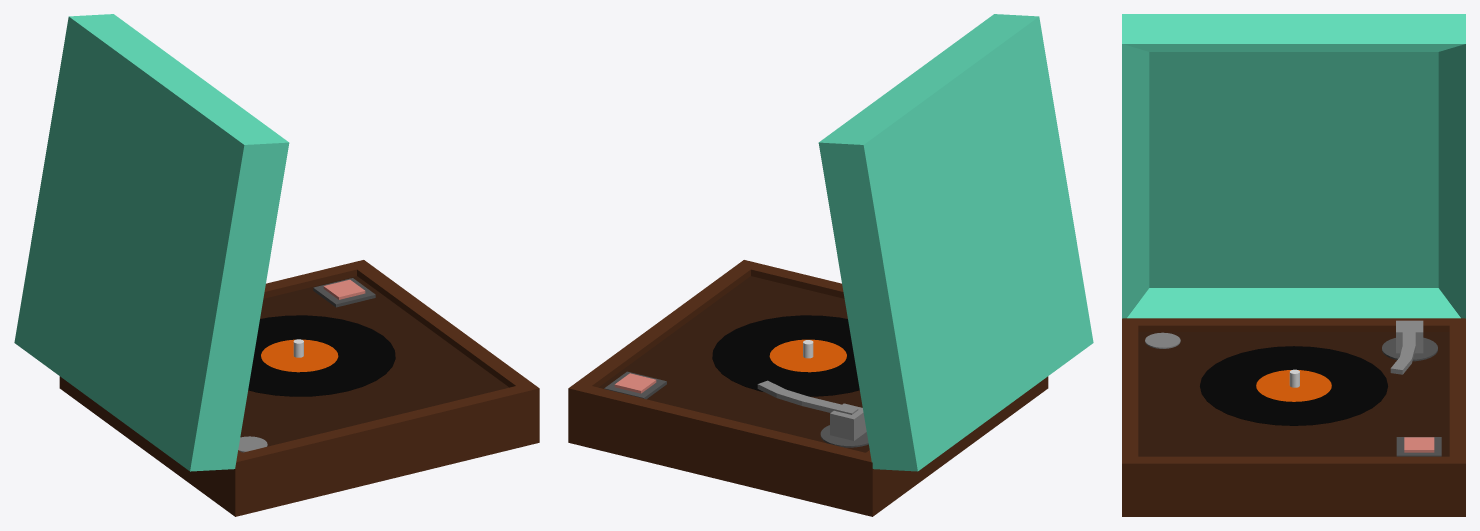
Rendered from record player.fbx.
3 views of the same model, side by side, from view 1: azimuth 30°, elevation 25°; view 2: azimuth 150°, elevation 25°; view 3: azimuth 270°, elevation 25° (orthographic). The views are drawn at different scales.
Visible parts, largest first — view 1: Lid, Box, record, Pwrbuttonbase; view 2: Lid, Box, record, arm; view 3: Lid, Box, record, arm, armbase, Pwrbuttonbase, powerbutton, button.
Part boxes in pixels (x1,y1,x2,y2): Lid: [14, 14, 289, 471]; Box: [59, 260, 539, 516]; record: [248, 315, 395, 396]; Pwrbuttonbase: [313, 278, 375, 307]; Lid: [818, 14, 1093, 471]; Box: [568, 260, 1048, 516]; record: [712, 315, 859, 396]; arm: [757, 380, 866, 440]; Lid: [1122, 14, 1465, 318]; Box: [1122, 318, 1465, 516]; record: [1200, 346, 1387, 425]; arm: [1390, 320, 1423, 374]; armbase: [1382, 337, 1437, 361]; Pwrbuttonbase: [1396, 437, 1441, 456]; powerbutton: [1404, 437, 1434, 452]; button: [1145, 332, 1180, 348].
Size of the model in its own units: 230 by 232 by 200.
